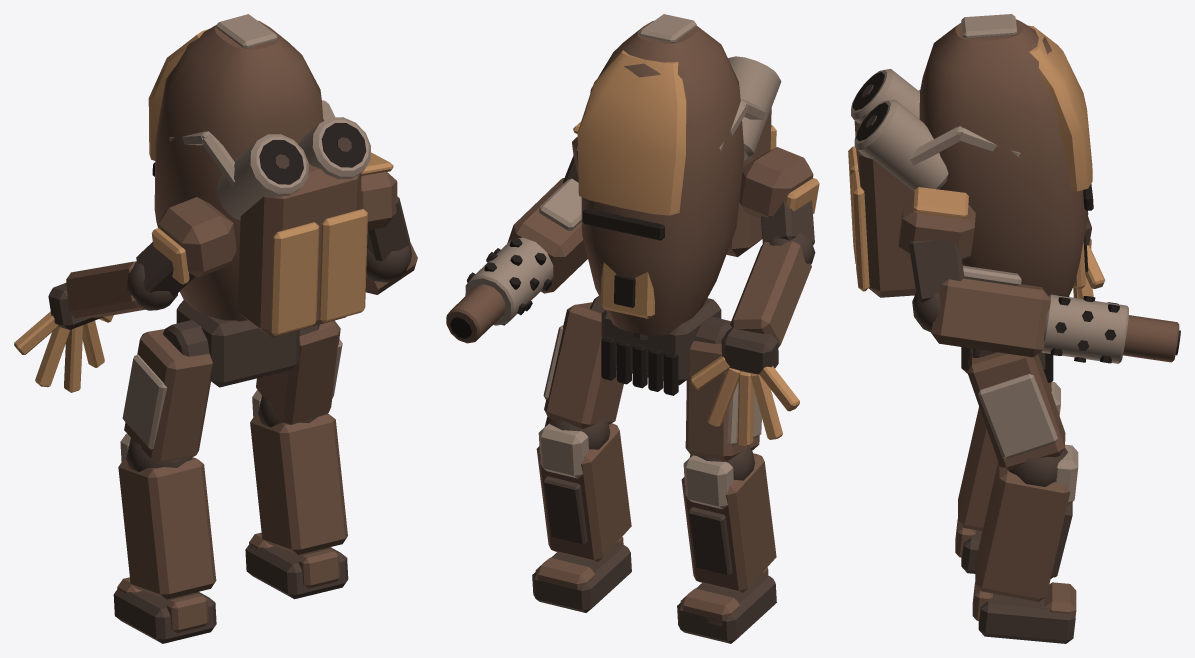
Rendered from character-mech-armor.glb.
3 renders of one model, left to right at view 1: azimuth 30°, elevation 25°; view 2: azimuth 150°, elevation 25°; view 3: azimuth 270°, elevation 25°, orthographic. The views are drawn at different scales.
Visible parts, largest first — view 1: body; view 2: body; view 3: body.
Boxes of the visible parts, x1=… form: body: x1=14, y1=14, x2=417, y2=643; body: x1=446, y1=14, x2=819, y2=643; body: x1=848, y1=14, x2=1180, y2=643.
Bounding box in the file's own units: 1.65 × 2.82 × 1.47.
